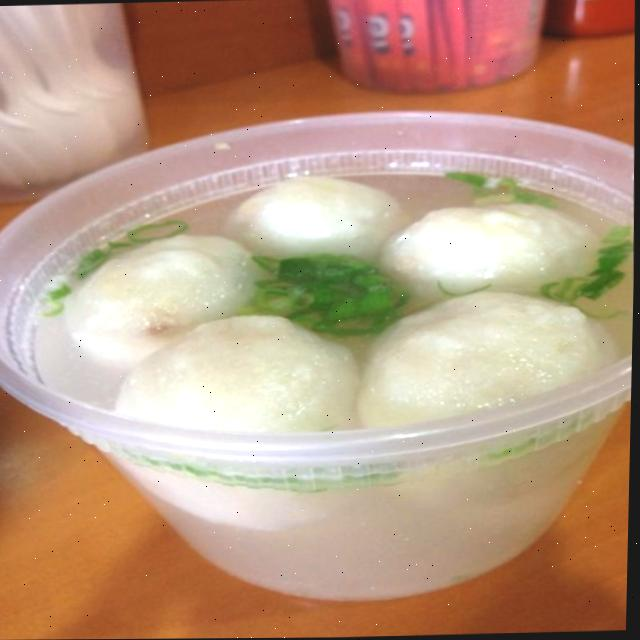熟制海鲜: (21, 54, 639, 591)
